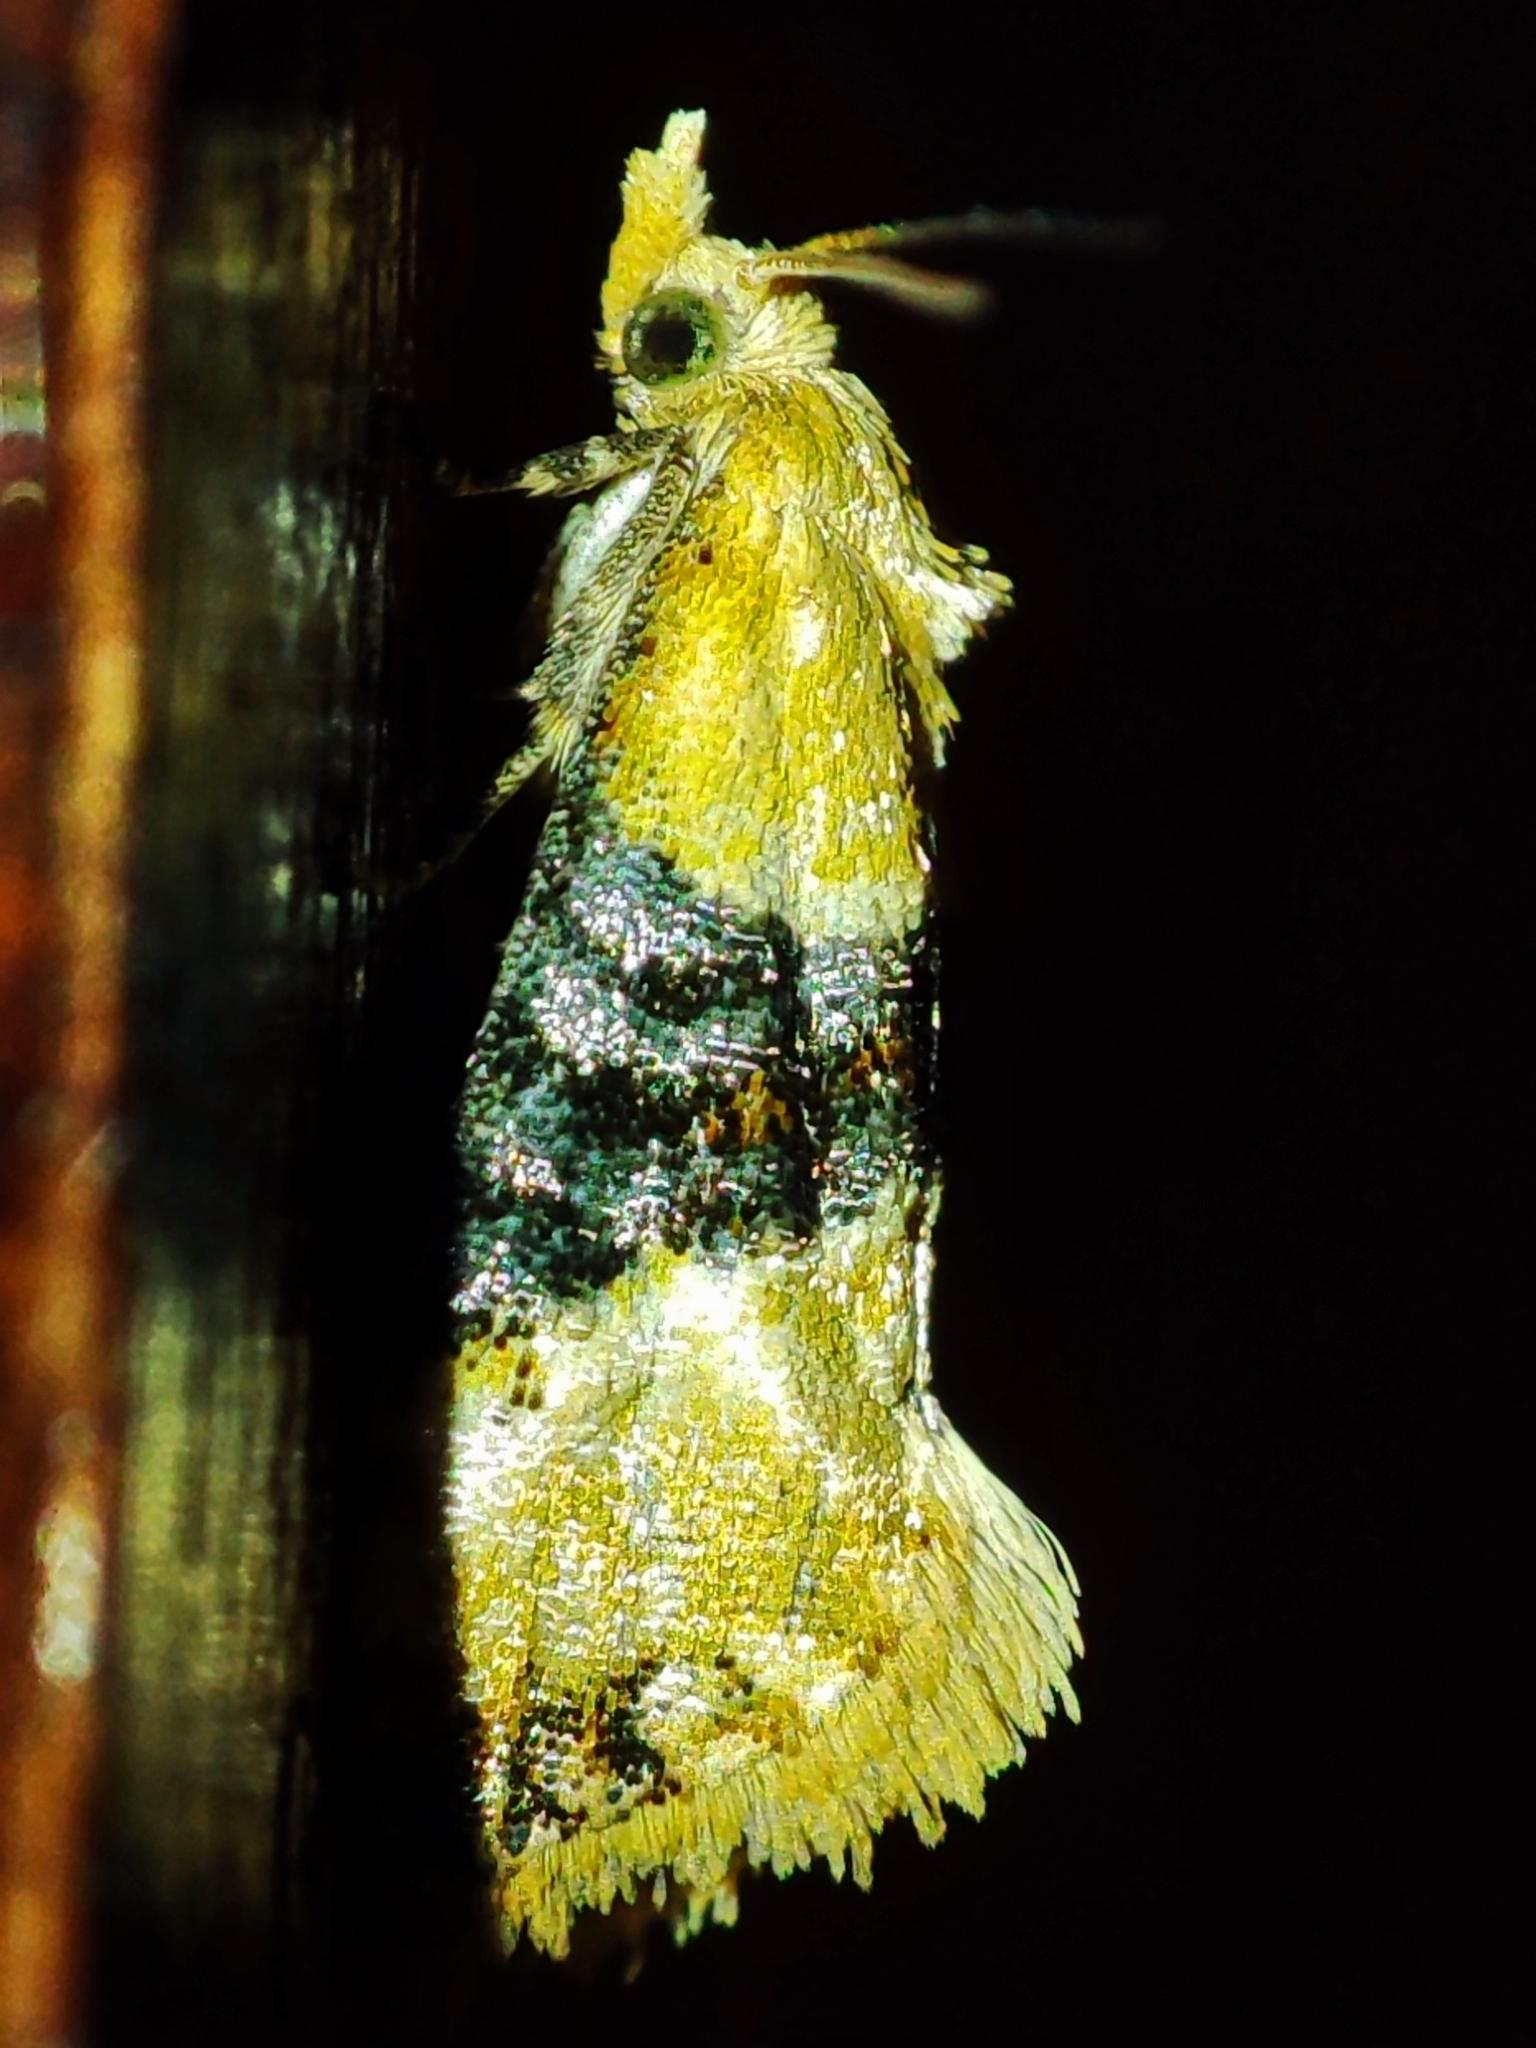Eupoecilia Ambiguella: (432, 103, 1096, 1966)
